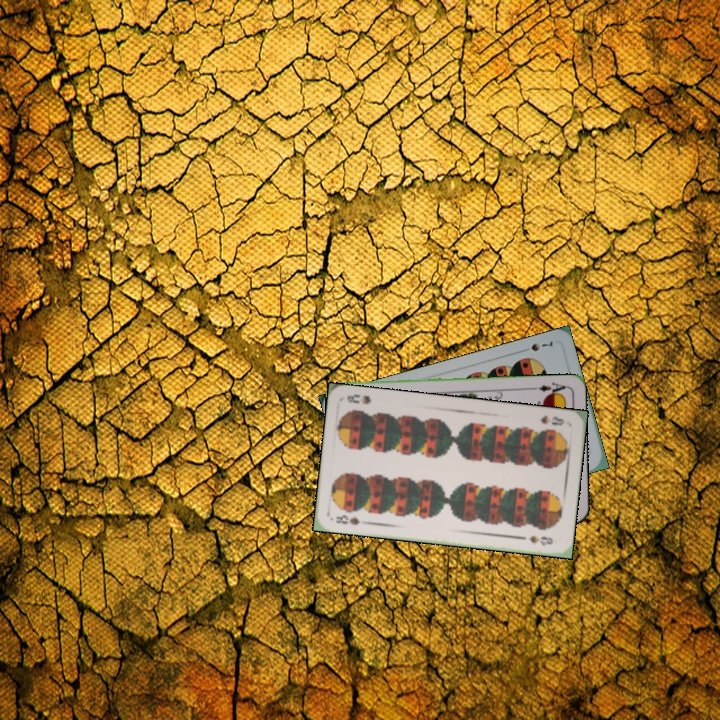EA: (529, 378, 569, 398)
S7: (517, 337, 555, 355)
S8: (331, 511, 362, 528), (536, 411, 566, 428)
